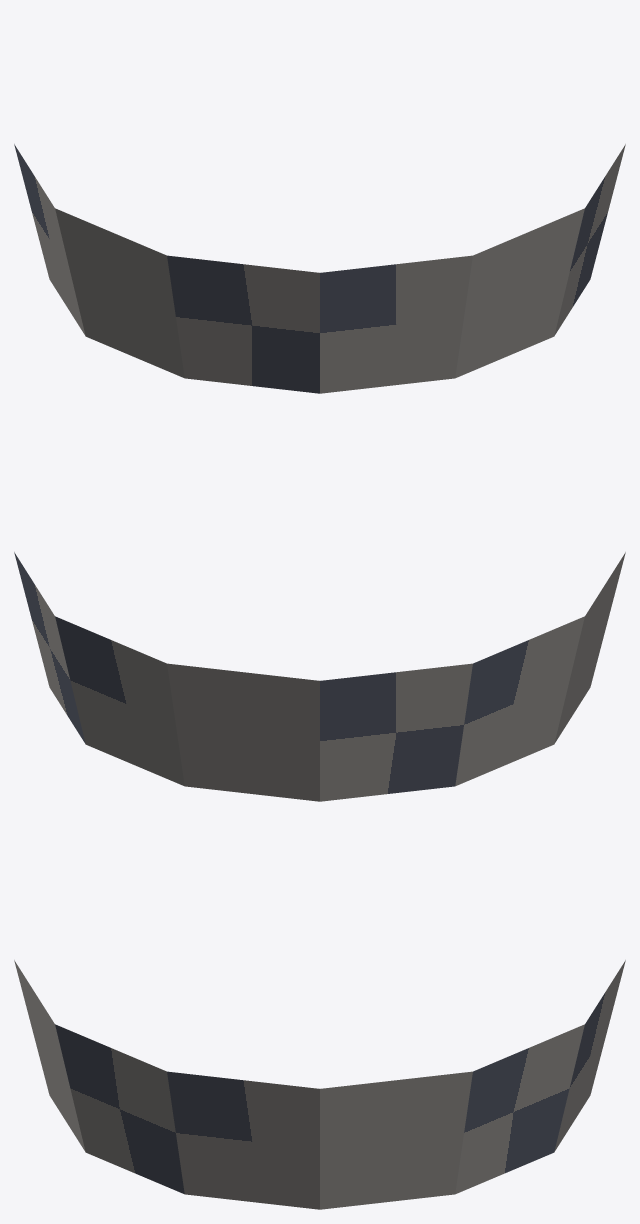
File: net0.glb
3 views of the same model, one above another, from view 1: azimuth 30°, elevation 25°; view 2: azimuth 150°, elevation 25°; view 3: azimuth 270°, elevation 25° (orthographic).
Visible parts, largest first — view 1: Net0; view 2: Net0; view 3: Net0.
Boxes of the visible parts, left/top/right/bottom form: Net0: left=14, top=144, right=625, bottom=393; Net0: left=14, top=552, right=625, bottom=801; Net0: left=14, top=960, right=625, bottom=1209.
Size of the model in its own units: 0.66 by 0.1617 by 0.66.
1 material, 1 textured.
